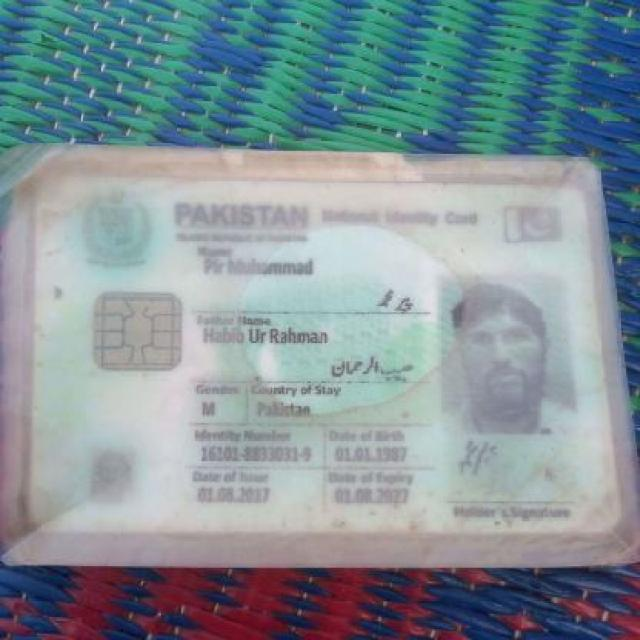Front: (22, 158, 626, 544)
